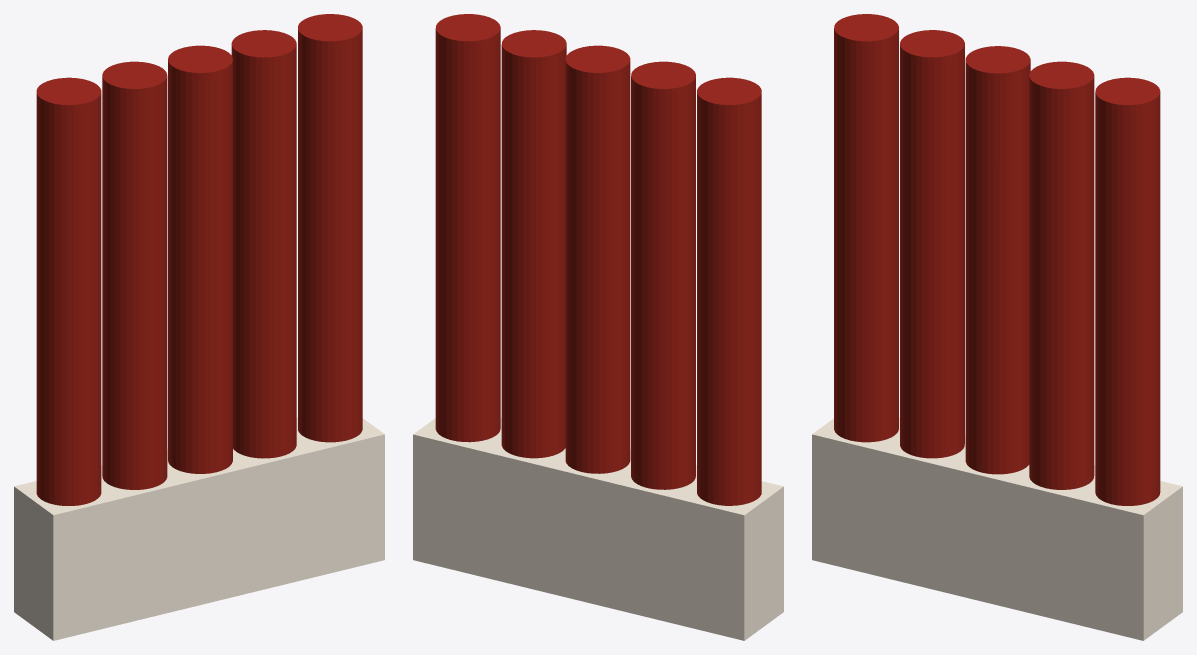
Rendered from Barrotes.fbx.
The picture shows the model from 3 angles, left to right: view 1: azimuth 30°, elevation 25°; view 2: azimuth 150°, elevation 25°; view 3: azimuth 330°, elevation 25°; orthographic projection.
Parts seen in each view (by area): view 1: Cube.002, Cylinder.010, Cylinder.011, Cylinder.015, Cylinder.017, Cylinder.016; view 2: Cube.002, Cylinder.015, Cylinder.017, Cylinder.016, Cylinder.010, Cylinder.011; view 3: Cube.002, Cylinder.016, Cylinder.017, Cylinder.015, Cylinder.010, Cylinder.011.
Part boxes in pixels (x1,y1,x2,y2): Cube.002: (14, 417, 384, 640); Cylinder.010: (102, 61, 167, 489); Cylinder.011: (36, 77, 101, 505); Cylinder.015: (168, 45, 232, 473); Cylinder.017: (298, 14, 362, 442); Cylinder.016: (231, 30, 296, 458); Cube.002: (413, 417, 783, 640); Cylinder.015: (565, 45, 630, 473); Cylinder.017: (435, 14, 500, 442); Cylinder.016: (501, 30, 566, 458); Cylinder.010: (631, 61, 695, 489); Cylinder.011: (697, 77, 761, 505); Cube.002: (812, 417, 1182, 640); Cylinder.016: (1029, 61, 1094, 489); Cylinder.017: (1095, 77, 1160, 505); Cylinder.015: (965, 46, 1030, 474); Cylinder.010: (900, 30, 964, 458); Cylinder.011: (834, 14, 898, 442).
Size of the model in its own units: 299 by 454 by 61.6.
